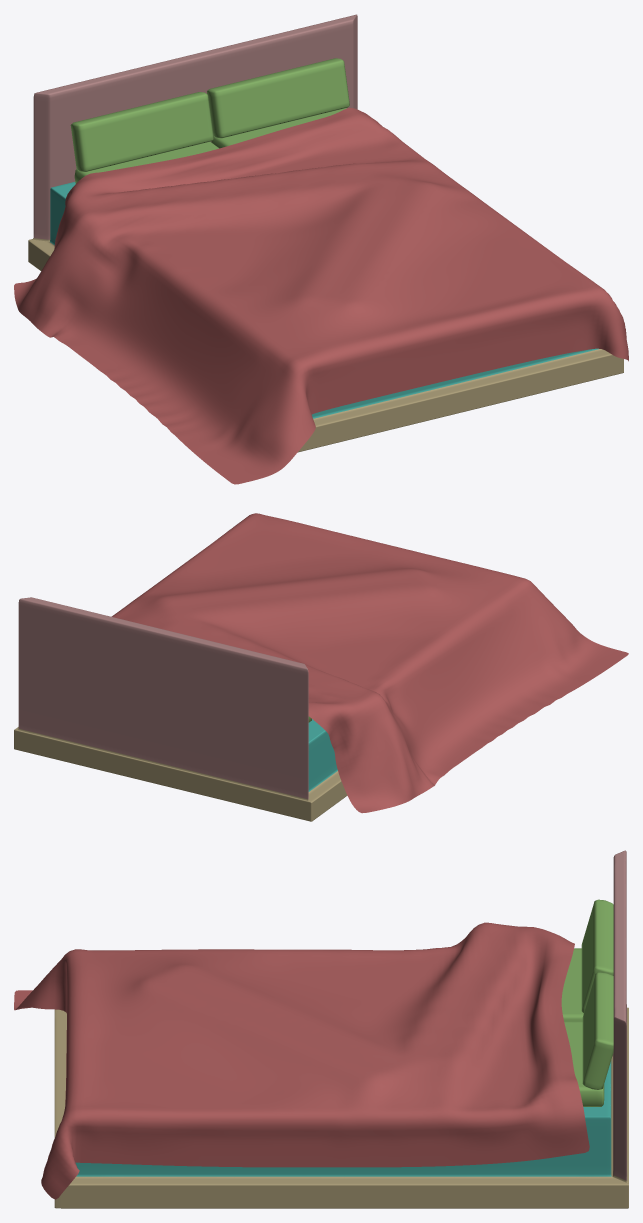
Rendered from Bed.fbx.
3 renders of one model, top to bottom at view 1: azimuth 30°, elevation 25°; view 2: azimuth 150°, elevation 25°; view 3: azimuth 270°, elevation 25°, orthographic. The views are drawn at different scales.
Visible parts, largest first — view 1: Bed; view 2: Bed; view 3: Bed.
Boxes of the visible parts, bbox=[...] form: Bed: bbox=[14, 14, 628, 484]; Bed: bbox=[14, 513, 628, 821]; Bed: bbox=[14, 850, 628, 1208].
Bounding box in the file's own units: 11.92 × 4.68 × 13.92.
